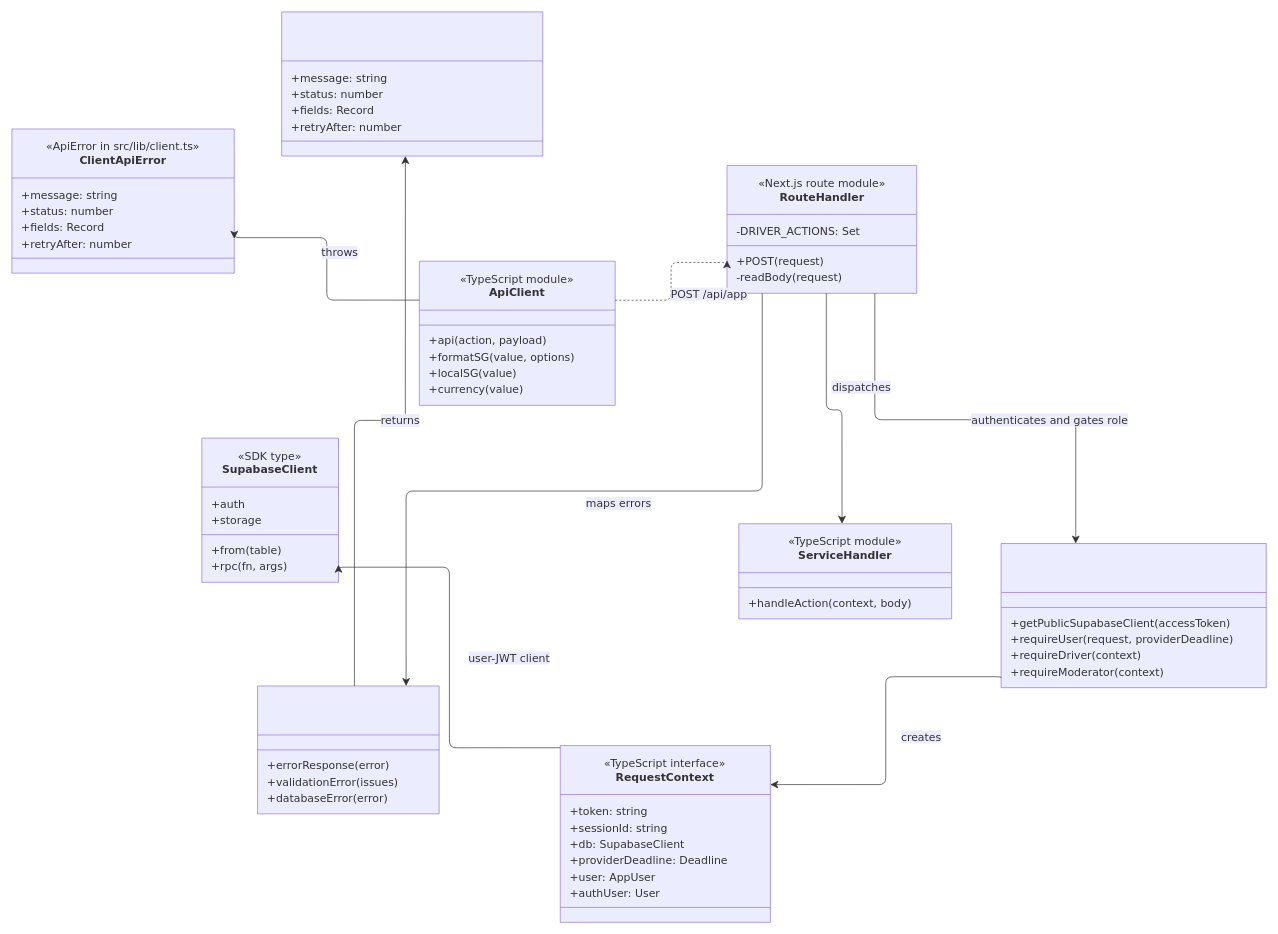
This 1278x934 diagram has some shape labels left out. The box of each missing label's shape, as (x1, y1, x2, y2) in pixels:
«ApiError in src/lib/server/errors.ts» ServerApiError: (281, 11, 543, 156)
«TypeScript module» AuthGuard: (1000, 543, 1266, 688)
«TypeScript module» ErrorMapper: (257, 685, 439, 814)
